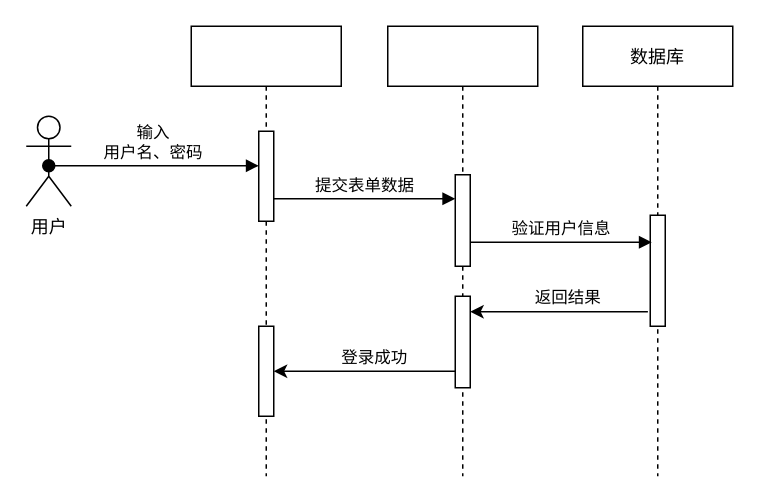
This 759x503 diagram has some shape labels left out. Each missing label, with the box of its shape:
服务端逻辑处理: (386, 25, 538, 476)
用户登录页面: (190, 25, 341, 476)
